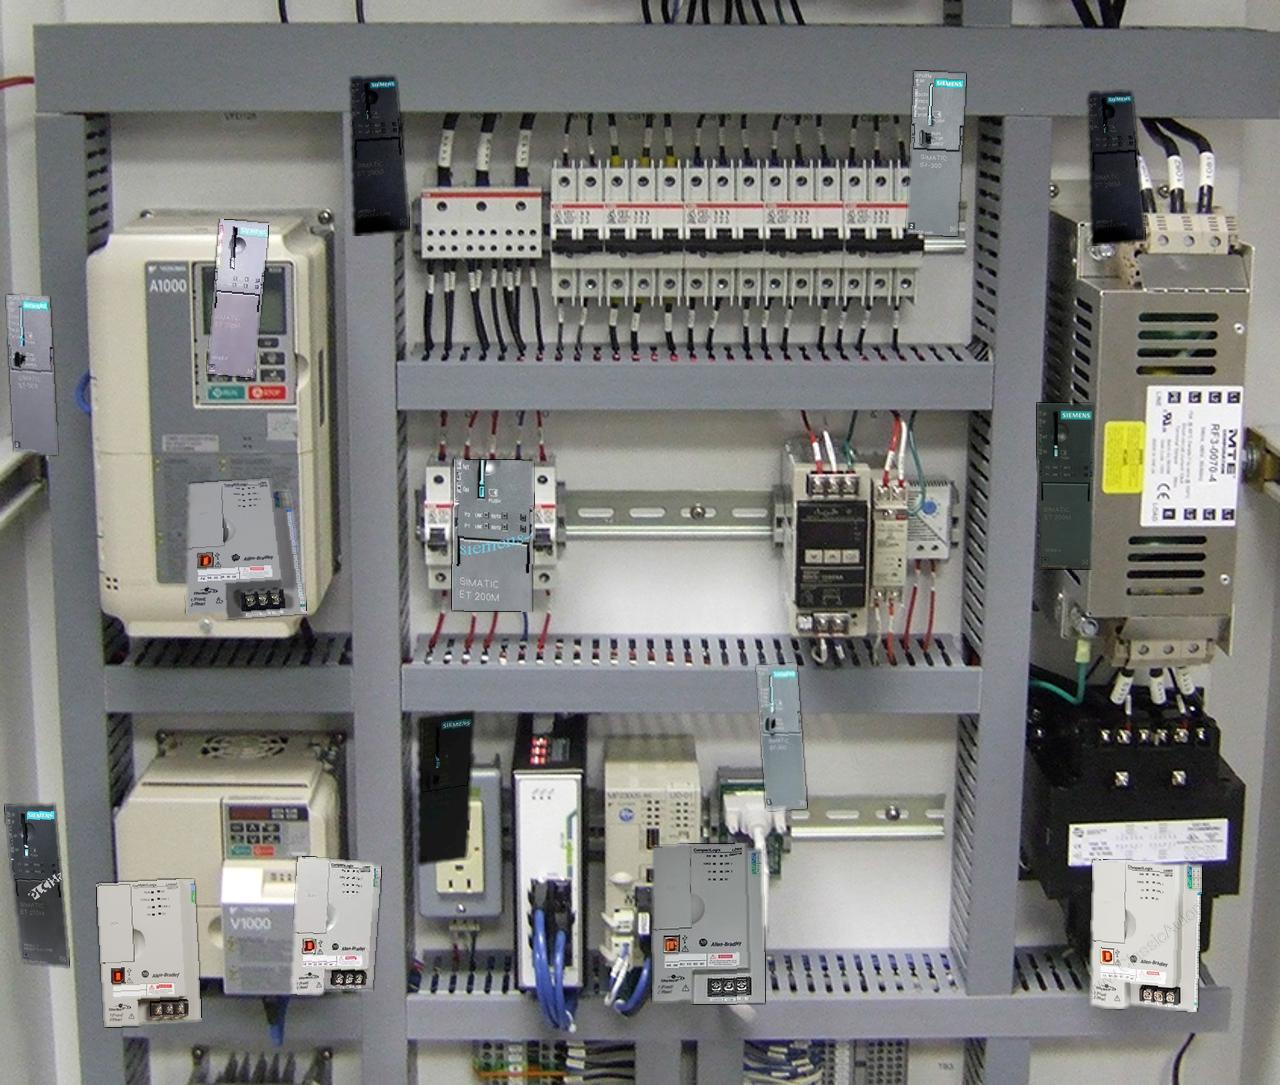AllenBradley: (652, 843, 764, 1003), (1091, 859, 1201, 1011), (186, 479, 306, 618), (96, 879, 201, 1026), (291, 856, 380, 994)
Siemens: (908, 71, 965, 235), (418, 711, 473, 864), (8, 295, 56, 454), (757, 664, 806, 809)
